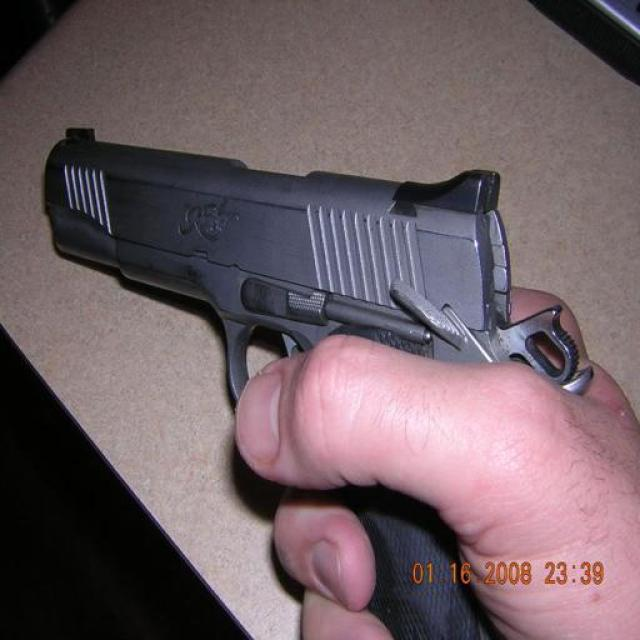pistol: (36, 116, 607, 640)
